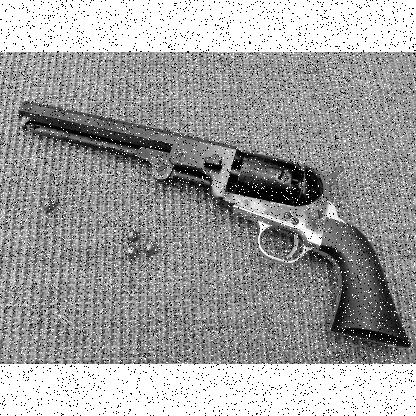gun: (17, 100, 410, 346)
